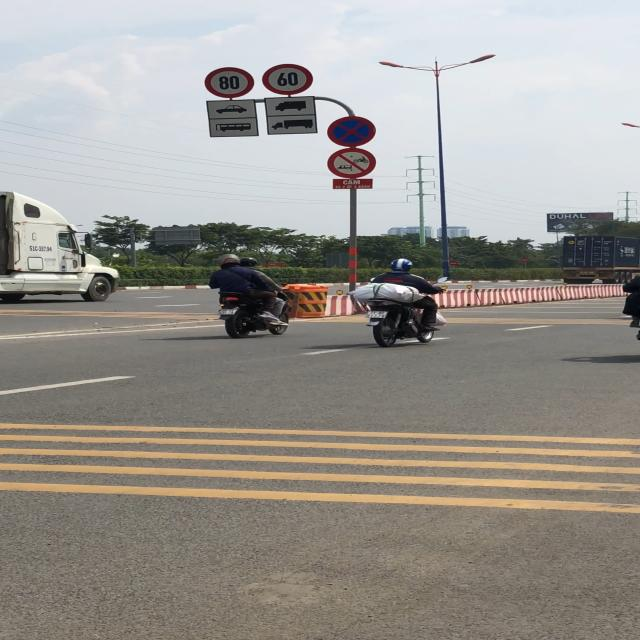Bien bao cam dung xe va do xe: (328, 114, 382, 147)
Bien bao toc do toi da cho phep: (262, 62, 317, 95), (205, 66, 256, 99)
